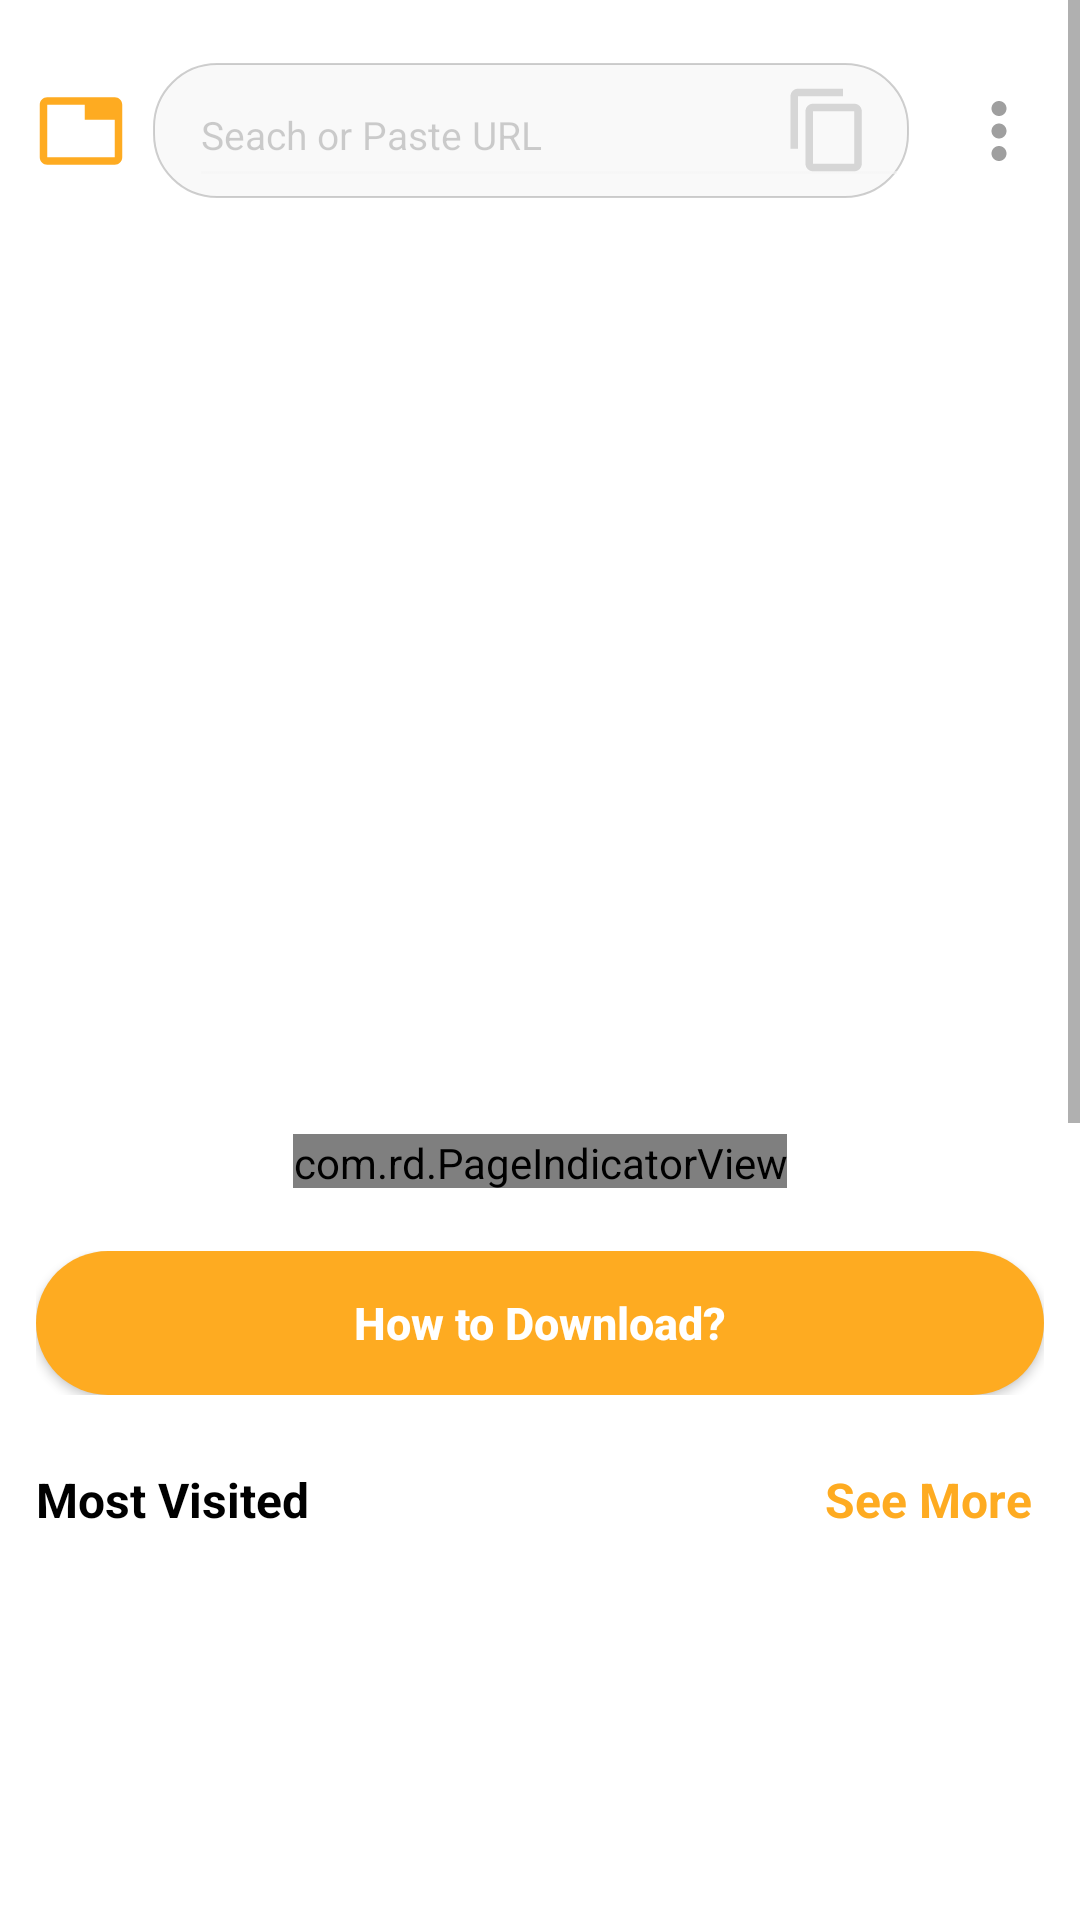

Point at icon controls on the screen. Image size 1080px x 1920px, points as point (x, y).
more vert: point (999, 131)
